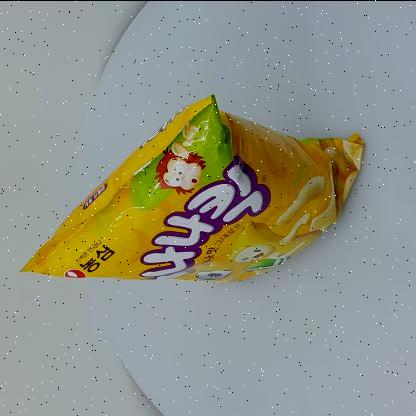Others: (14, 89, 378, 291)
